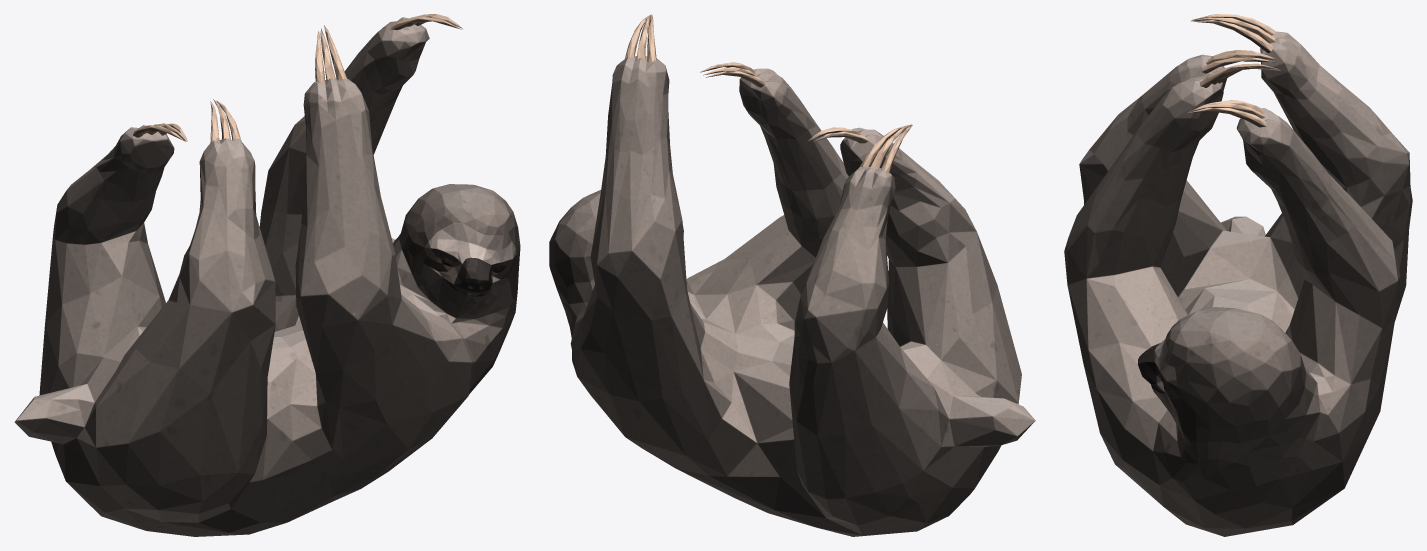
The model's file is sloth.glb.
3 views of the same model, side by side, from view 1: azimuth 30°, elevation 25°; view 2: azimuth 150°, elevation 25°; view 3: azimuth 270°, elevation 25° (orthographic). The views are drawn at different scales.
Parts seen in each view (by area): view 1: sloth.1; view 2: sloth.1; view 3: sloth.1.
Boxes of the visible parts, <box> form: sloth.1: <box>14,14,520,536</box>; sloth.1: <box>549,14,1035,536</box>; sloth.1: <box>1064,14,1412,536</box>.
Bounding box in the file's own units: 0.0635 × 0.0561 × 0.0363.
Materials: 1 (1 with a texture image).
